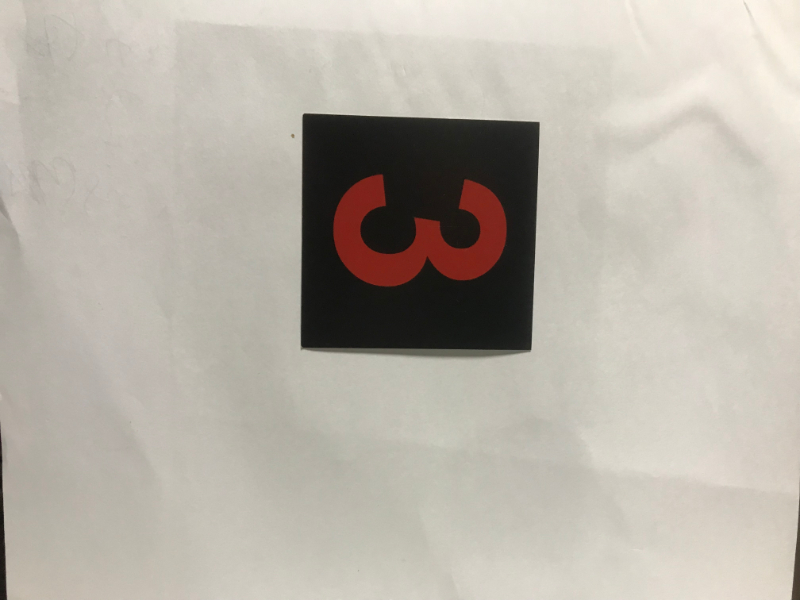Three-8: (308, 125, 529, 344)
